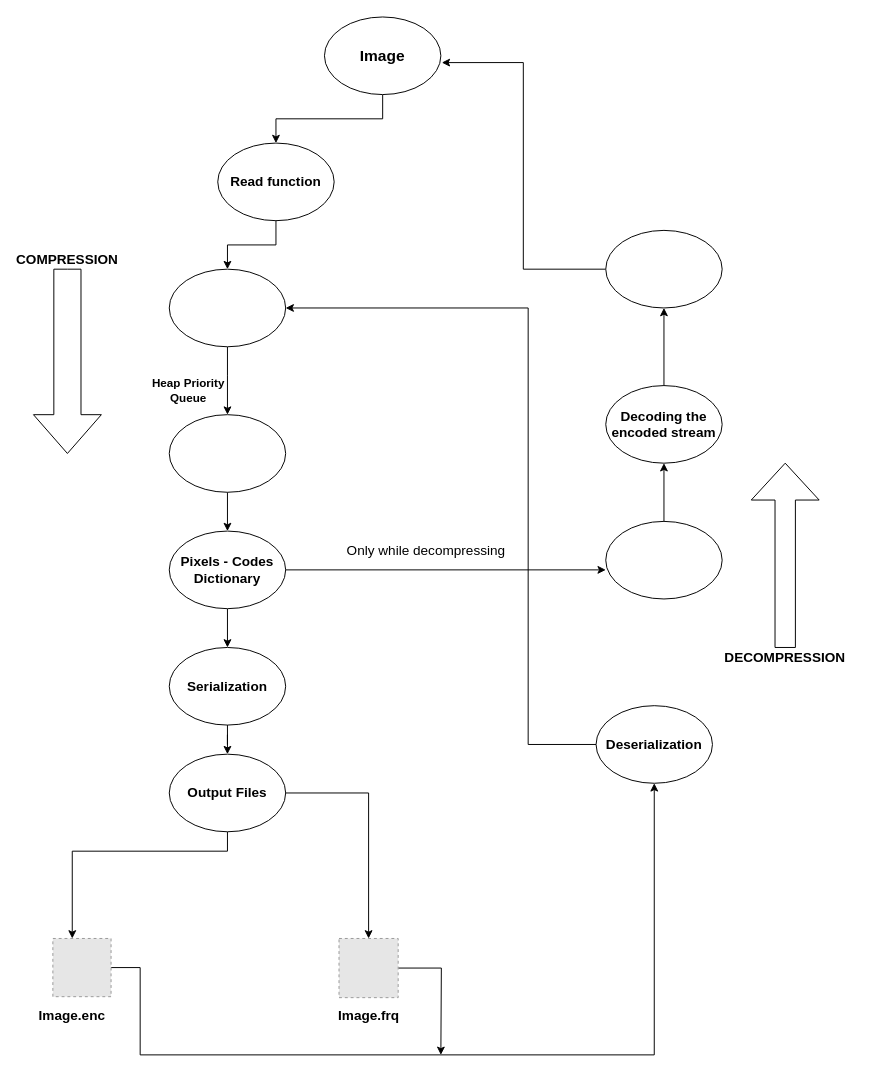
This 870x1080 diagram has some shape labels left out. Grey dashed boxes stand in for pictures. Each missing label, with the centre of its shape:
Codes - Pixels Dictionary: the point at 663,559
Frequency Table: the point at 227,307
Huffman Tree: the point at 227,453
Write function: the point at 663,268
